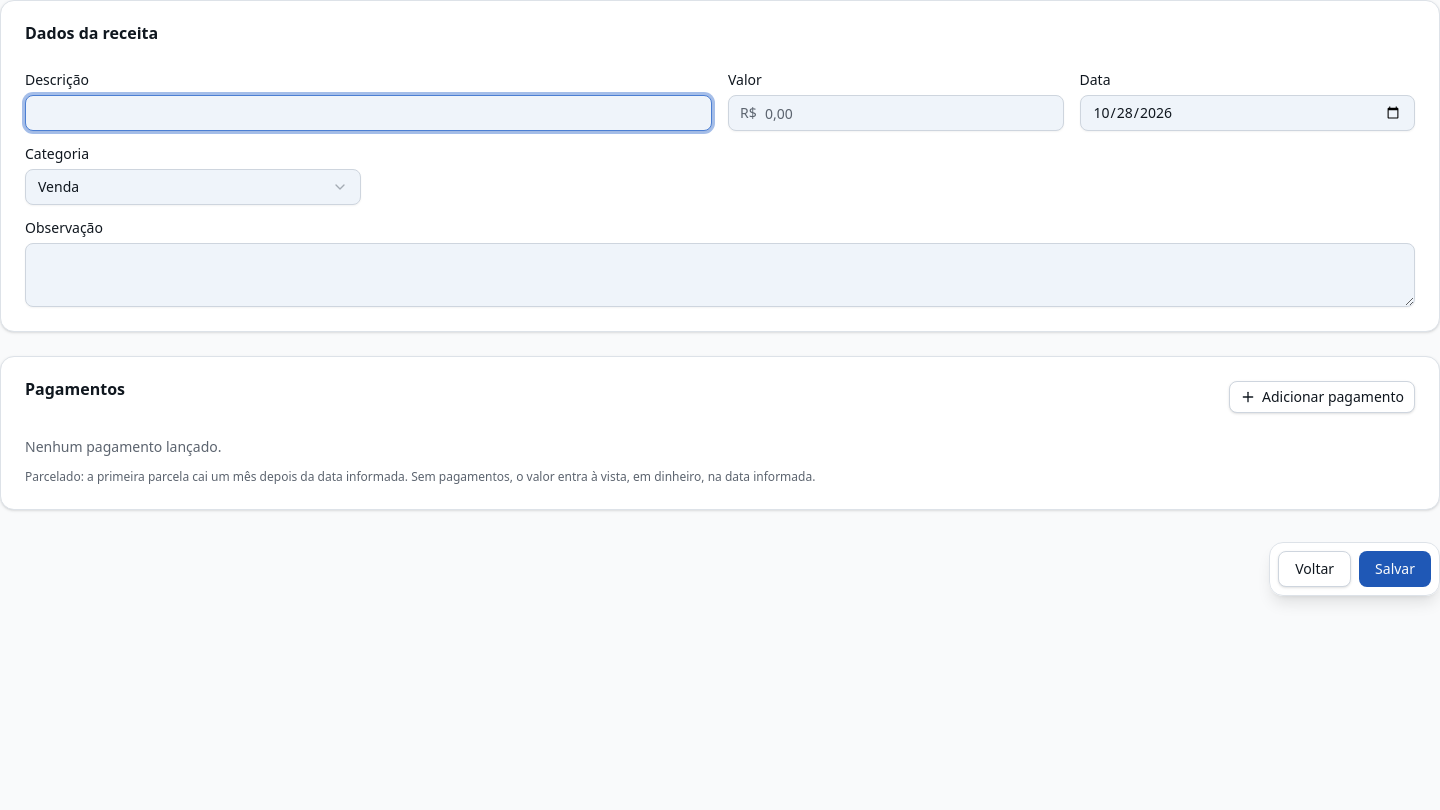
Scenario: TransacaoFormulario › sem descrição e sem valor, não salva
Click the button "Salvar" at (1395, 569), box [1359,551,1431,587]
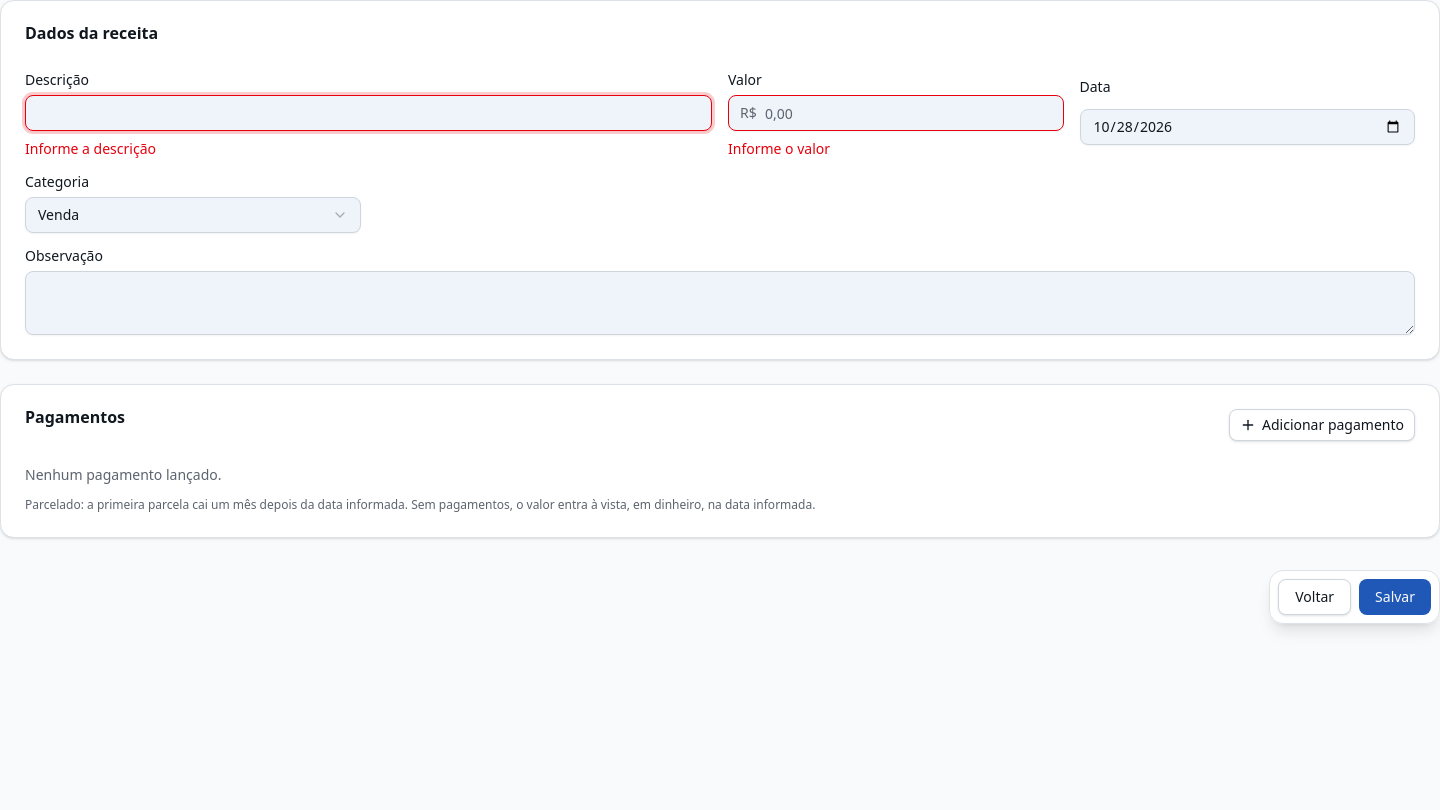
Now the text "Informe a descrição" is shown, box [25,139,156,158]
Now the text "Informe o valor" is shown, box [728,139,830,158]
